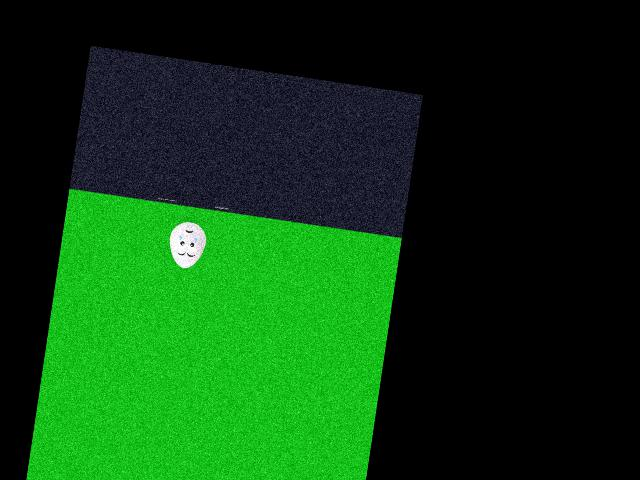egg: (165, 219, 208, 270)
